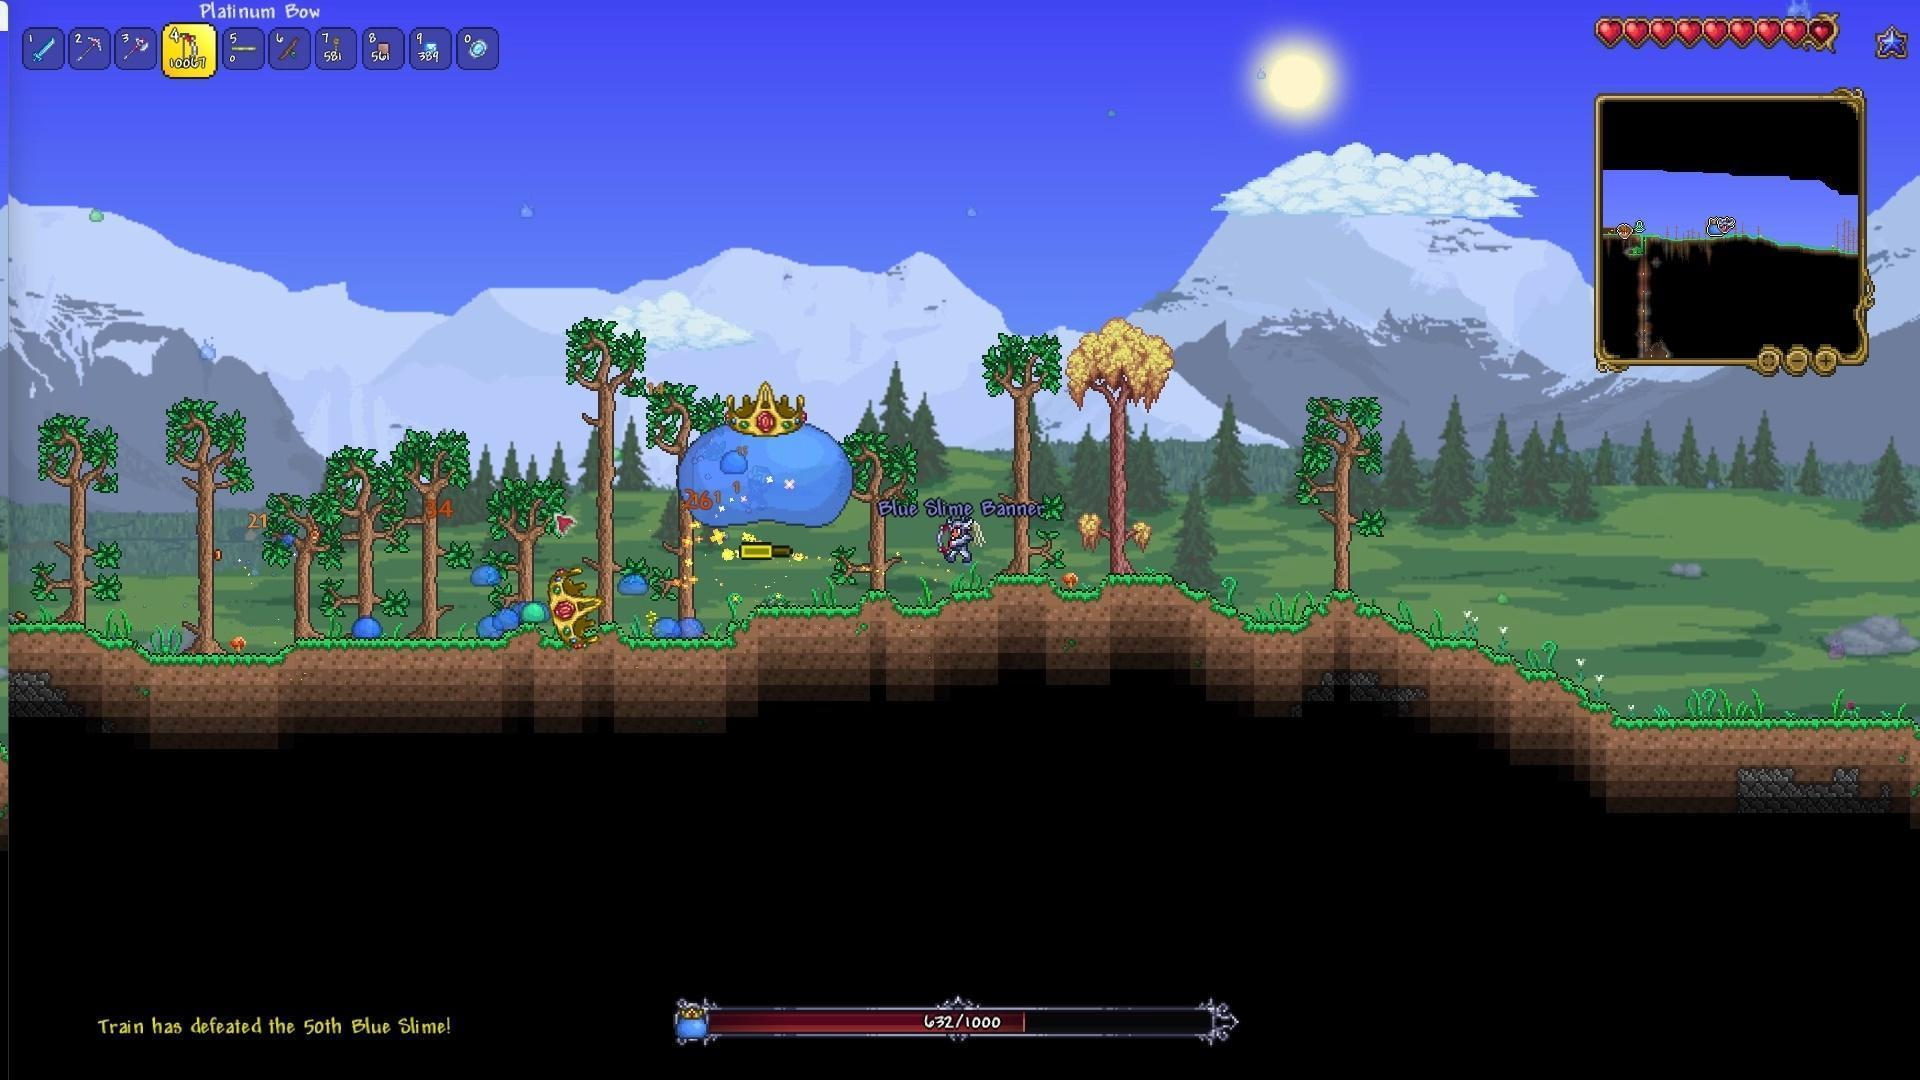slime: (615, 570, 655, 599), (676, 615, 712, 642), (465, 563, 498, 591), (650, 615, 684, 640), (491, 604, 520, 633), (352, 613, 384, 640), (520, 600, 547, 625)
